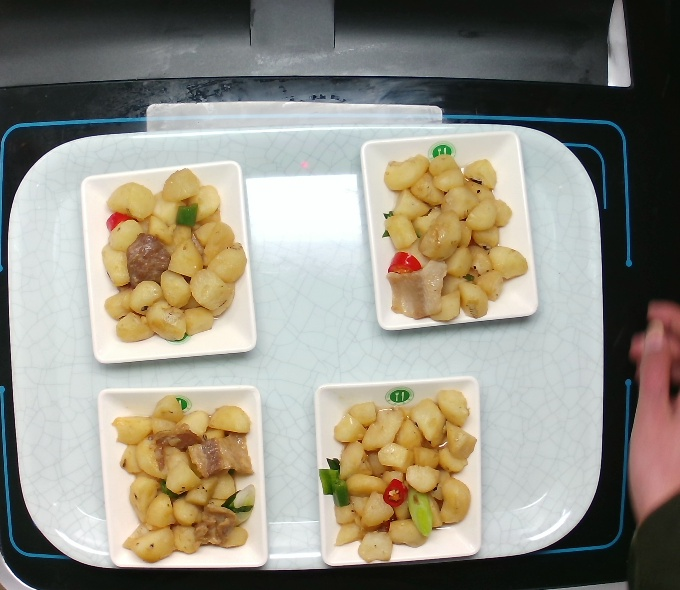wcq-MaTiGuoChaoRou: (312, 387, 482, 569), (93, 162, 250, 347), (377, 150, 532, 326), (106, 391, 261, 566)
